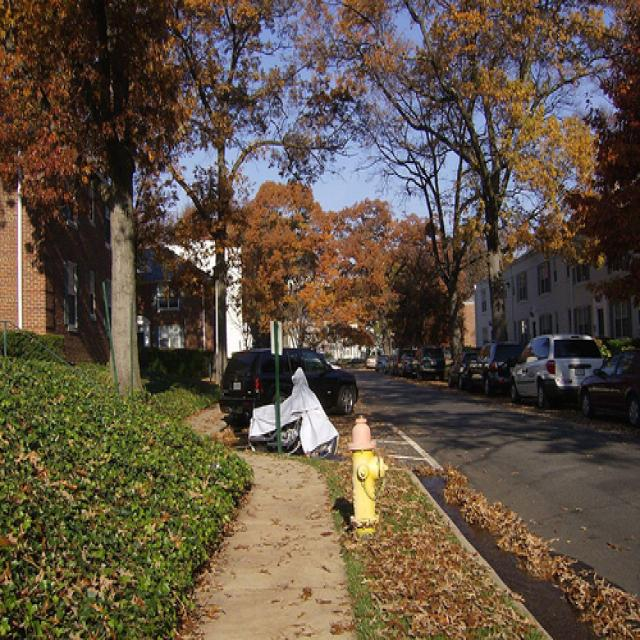motor: (252, 422, 335, 459)
